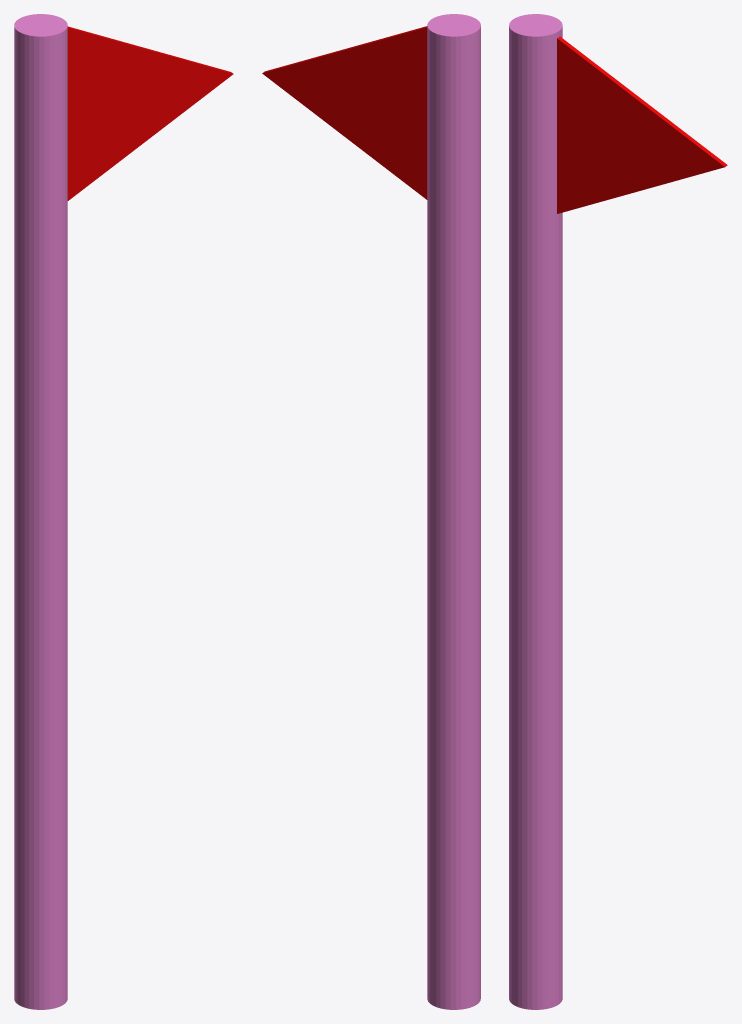
Rendered from flag.dae.
3 renders of one model, left to right at view 1: azimuth 30°, elevation 25°; view 2: azimuth 150°, elevation 25°; view 3: azimuth 330°, elevation 25°, orthographic.
Visible parts, largest first — view 1: Cylinder, flag; view 2: Cylinder, flag; view 3: Cylinder, flag.
Part boxes in pixels (x1,y1,x2,y2): Cylinder: (14,14,67,1009); flag: (67,26,233,200); Cylinder: (427,14,480,1009); flag: (262,26,427,199); Cylinder: (509,14,562,1009); flag: (557,36,727,213).
Size of the model in its own units: 0.00461 by 0.001 by 0.02.
